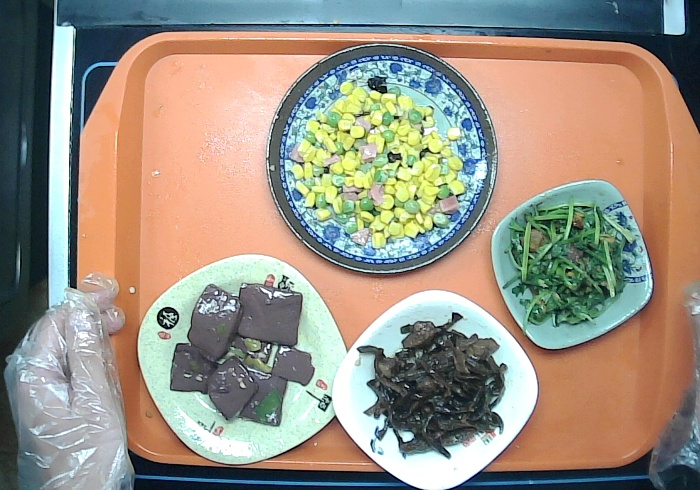NLDX-Bai_Se_Xiao_Fang_Die: (329, 286, 539, 490)
NLDX-Fu_Zi_Fang_Die: (135, 251, 349, 468)
NLDX-Qing_Hua_Xiao_Fang_Die: (487, 176, 657, 351)
NLDX-Qing_Hua_Yuan_Die: (264, 41, 501, 276)
